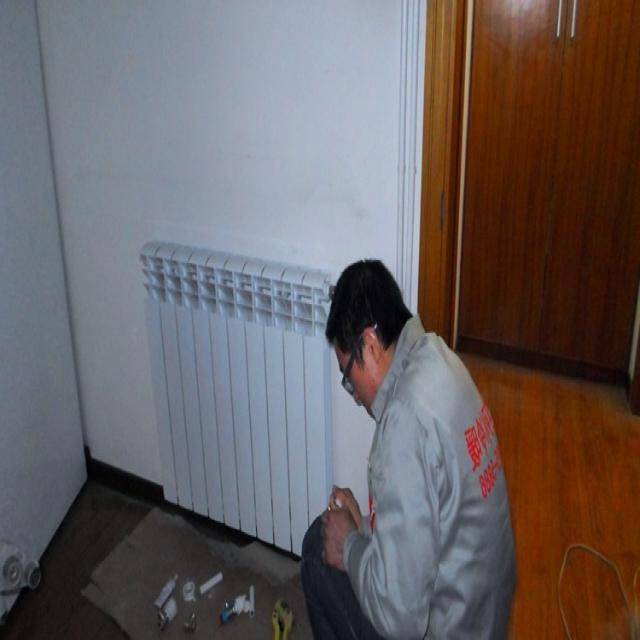Sin_Casco_Mascarrilla: (325, 259, 404, 412)
